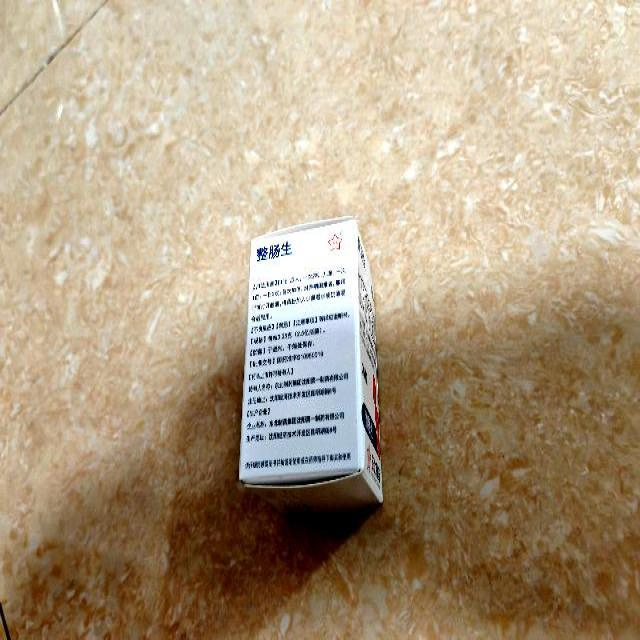box: (238, 217, 384, 516)
